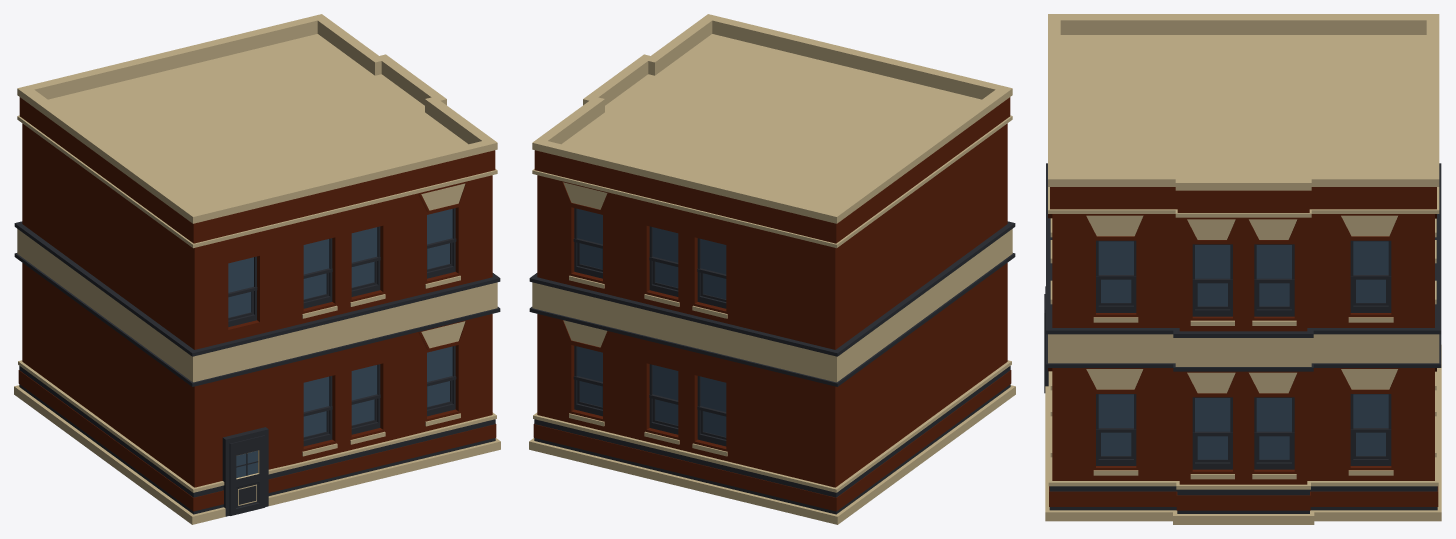
The model's file is QooQoo's Low poly Building 001.dae.
3 renders of one model, left to right at view 1: azimuth 30°, elevation 25°; view 2: azimuth 150°, elevation 25°; view 3: azimuth 270°, elevation 25°, orthographic. The views are drawn at different scales.
Visible parts, largest first — view 1: Building_001_2Floors; view 2: Building_001_2Floors; view 3: Building_001_2Floors.
Part boxes in pixels (x1=…): Building_001_2Floors: x1=14, y1=14, x2=500, y2=524; Building_001_2Floors: x1=529, y1=14, x2=1015, y2=524; Building_001_2Floors: x1=1044, y1=14, x2=1441, y2=524.
Size of the model in its own units: 9.52 by 9.35 by 8.85.
